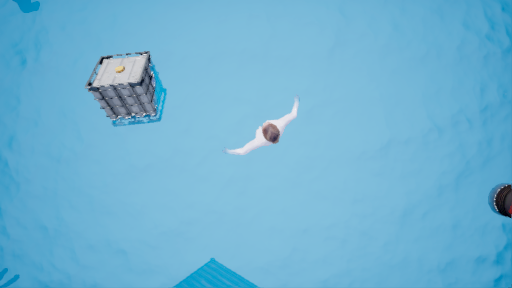person: (223, 95, 312, 159)
